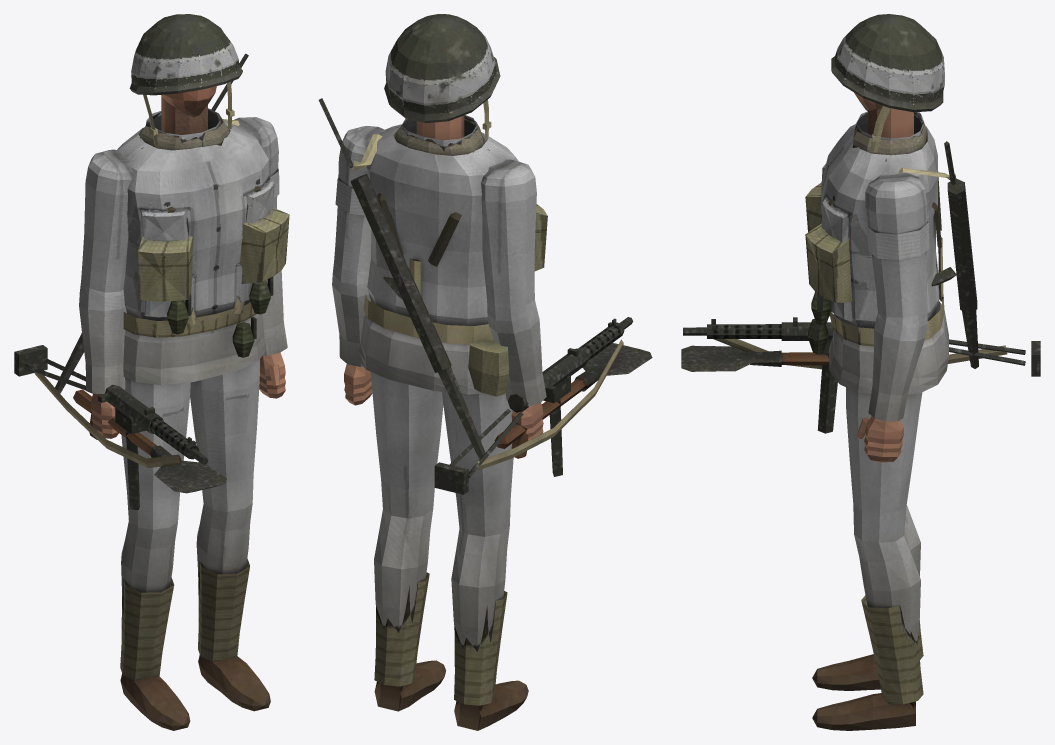
Rendered from smgsquad.glb.
3 views of the same model, side by side, from view 1: azimuth 30°, elevation 25°; view 2: azimuth 150°, elevation 25°; view 3: azimuth 270°, elevation 25° (orthographic). The views are drawn at different scales.
Visible parts, largest first — view 1: smgsquad_LOD0; view 2: smgsquad_LOD0; view 3: smgsquad_LOD0.
Boxes of the visible parts, left/top/right/bottom form: smgsquad_LOD0: left=14, top=14, right=289, bottom=730; smgsquad_LOD0: left=318, top=14, right=652, bottom=730; smgsquad_LOD0: left=681, top=14, right=1040, bottom=730.
Size of what is drawn, in the model's own units: 0.5674 by 1.77 by 0.838.
1 material, 1 textured.
